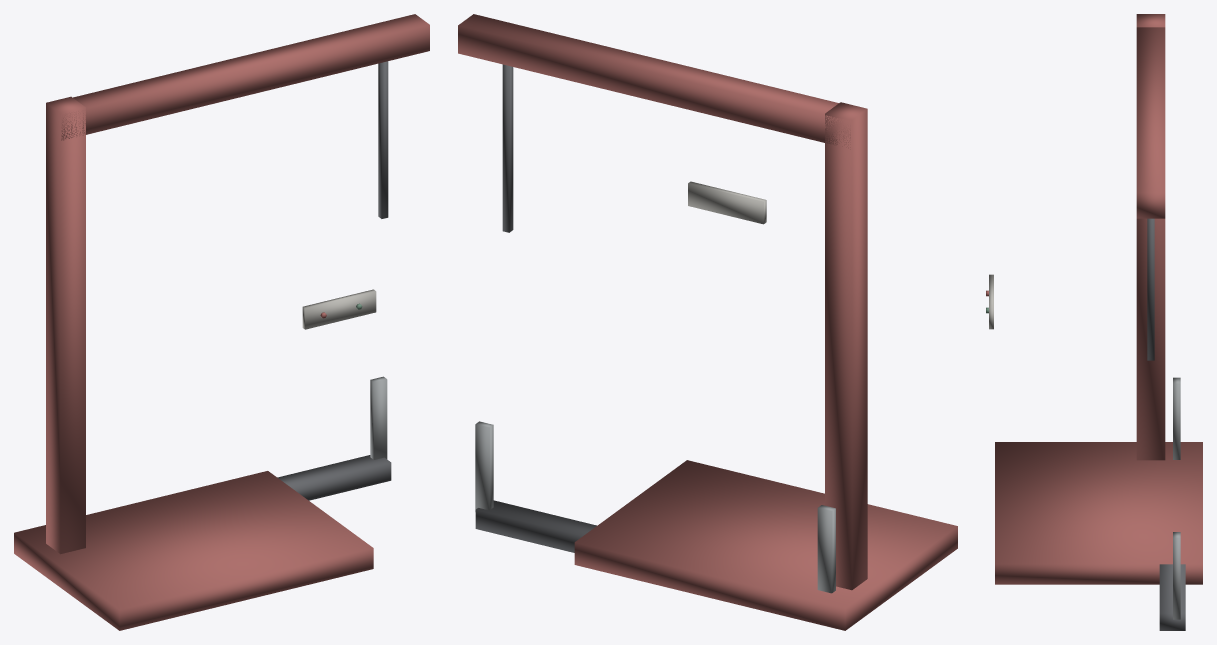
File: engine_hoist__reinforced.glb
The picture shows the model from 3 angles, left to right: view 1: azimuth 30°, elevation 25°; view 2: azimuth 150°, elevation 25°; view 3: azimuth 270°, elevation 25°; orthographic projection. The views are drawn at different scales.
Parts seen in each view (by area): view 1: world; view 2: world; view 3: world.
Boxes of the visible parts, x1=… form: world: x1=14, y1=14, x2=429, y2=630; world: x1=458, y1=14, x2=957, y2=630; world: x1=986, y1=14, x2=1202, y2=630.
Bounding box in the file's own units: 1.55 × 1.79 × 0.7735.
